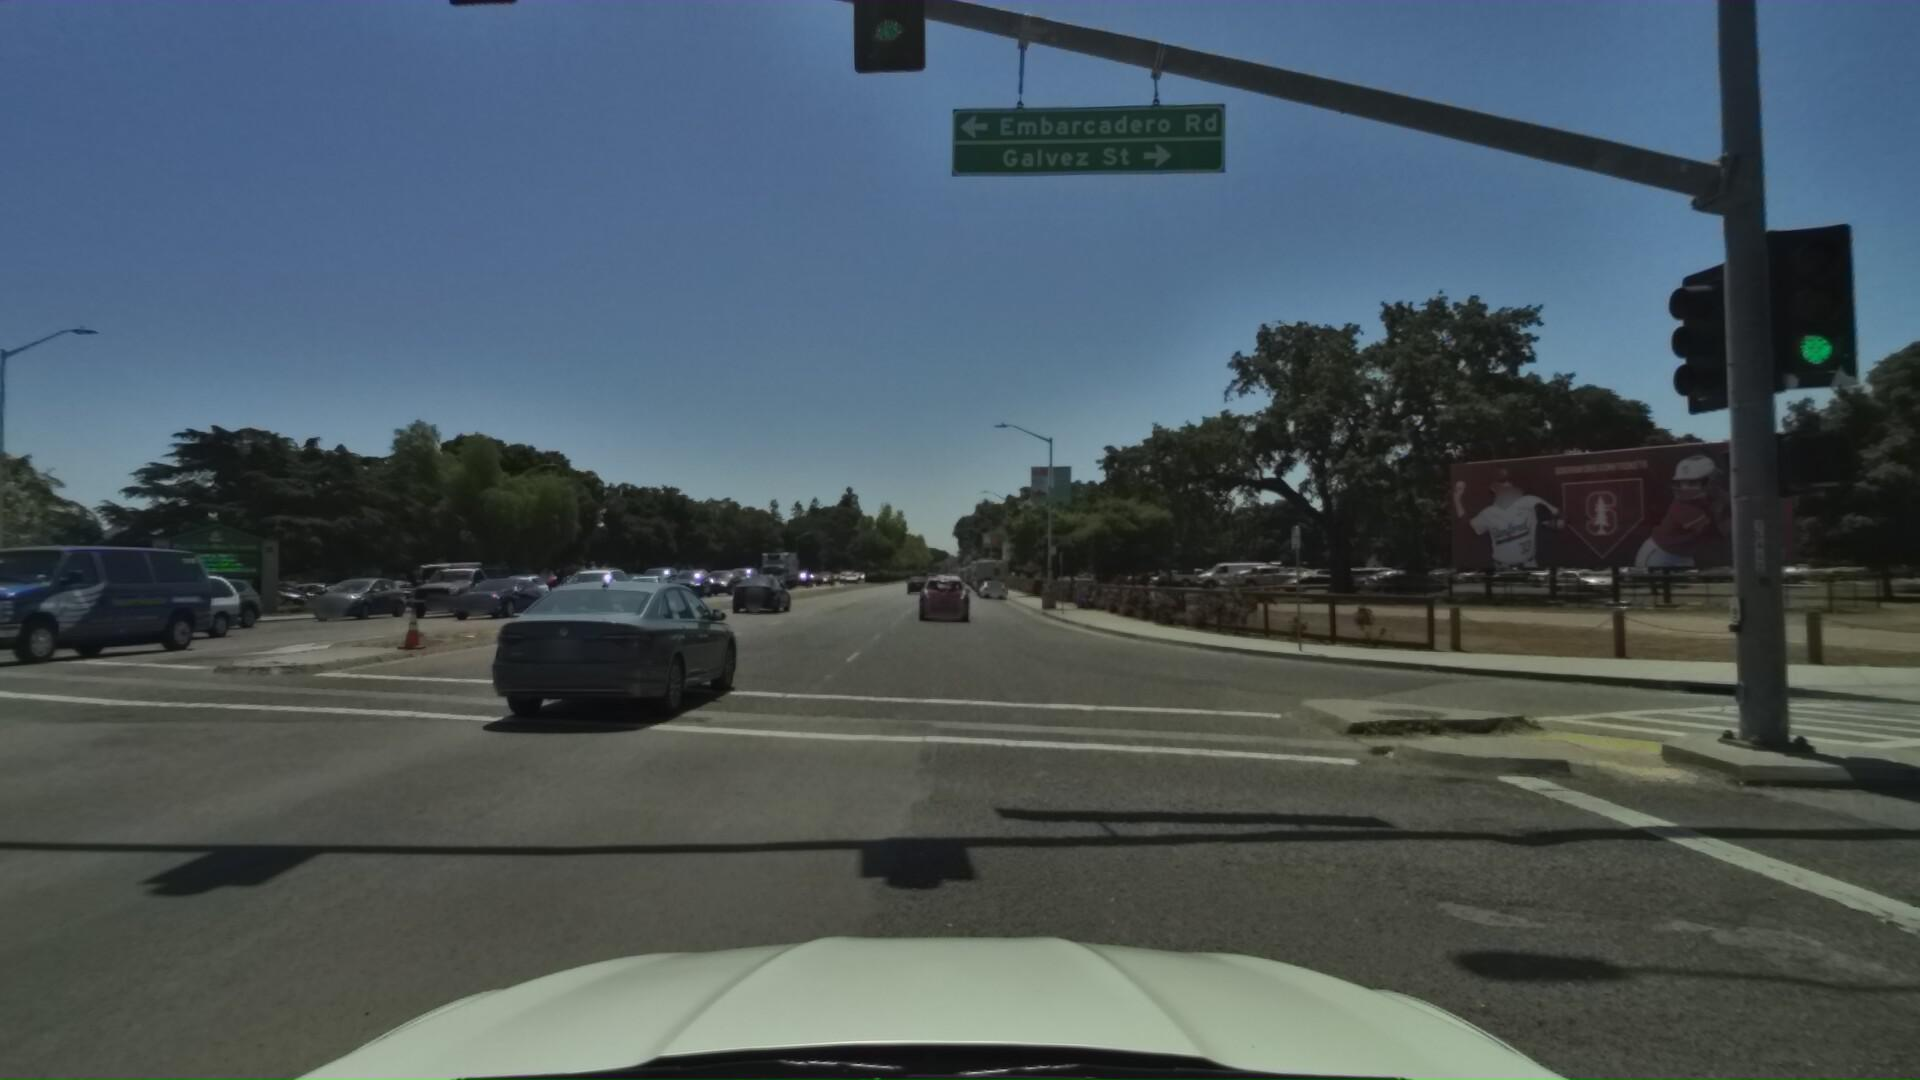car: (477, 567, 750, 735), (0, 535, 206, 680), (16, 566, 248, 651), (0, 570, 34, 1080), (116, 563, 284, 632), (393, 555, 516, 615), (294, 572, 407, 621), (434, 576, 549, 622), (553, 562, 634, 607), (916, 568, 971, 621), (729, 574, 794, 615), (484, 567, 553, 603), (539, 570, 608, 603), (616, 568, 675, 597), (665, 560, 715, 591), (932, 568, 971, 601), (699, 564, 742, 592), (977, 568, 1007, 592), (906, 568, 931, 588)
other_vehicle: (975, 549, 1007, 585)
